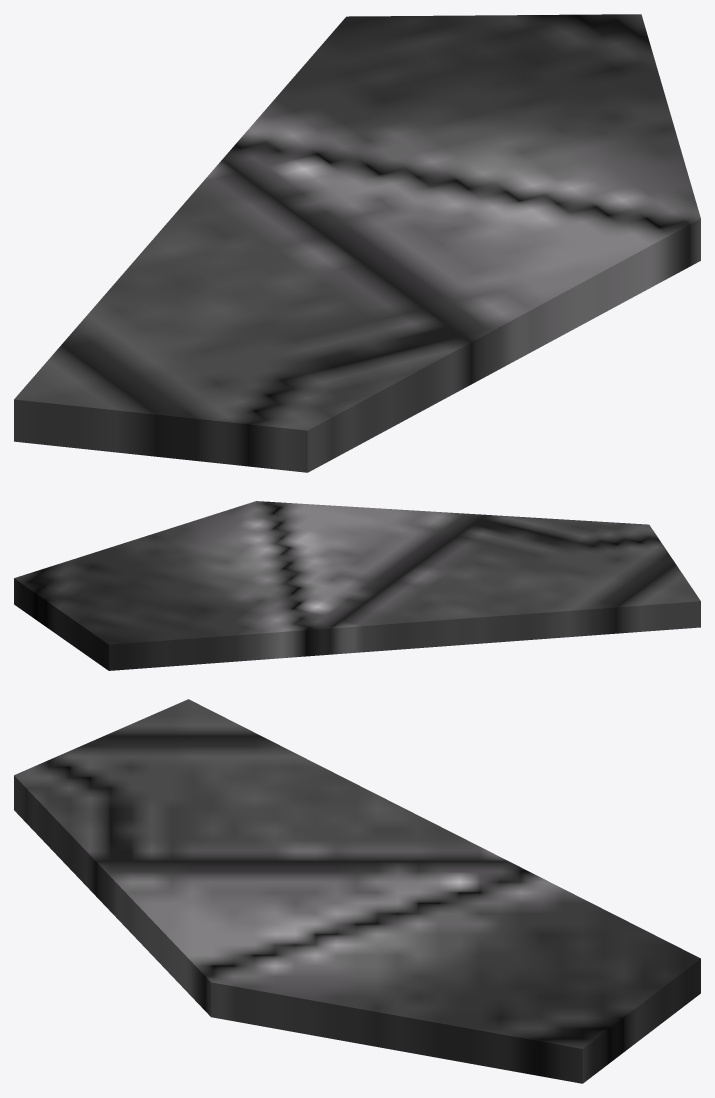
Rendered from USA - Aviation - Stealth Fighter - Damage State 4 - avstealth_d4.glb.
The picture shows the model from 3 angles, top to bottom: view 1: azimuth 30°, elevation 25°; view 2: azimuth 150°, elevation 25°; view 3: azimuth 270°, elevation 25°; orthographic projection. The views are drawn at different scales.
Parts seen in each view (by area): view 1: AVSTEALTH_D4; view 2: AVSTEALTH_D4; view 3: AVSTEALTH_D4.
Boxes of the visible parts, x1,y1,x2,y2 form: AVSTEALTH_D4: [14, 14, 700, 472]; AVSTEALTH_D4: [14, 501, 700, 670]; AVSTEALTH_D4: [14, 699, 700, 1083].
Size of the model in its own units: 4.51 by 0.21 by 3.75.
Materials: 1 (1 with a texture image).
